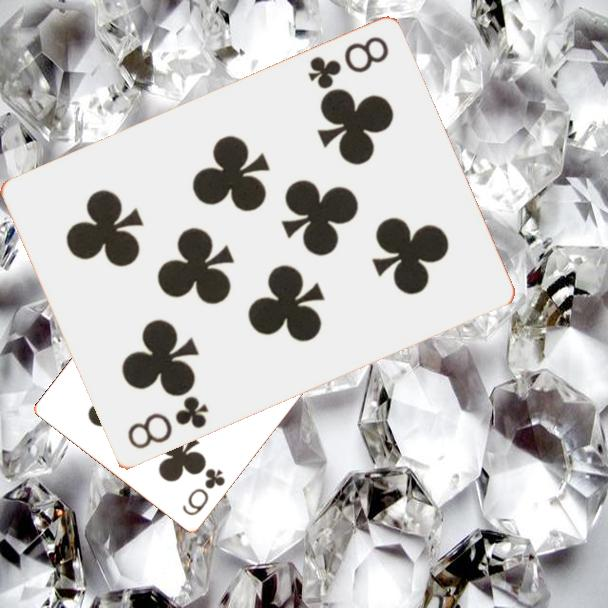c06: (179, 465, 228, 519)
c08: (123, 393, 212, 453), (304, 33, 392, 93)
